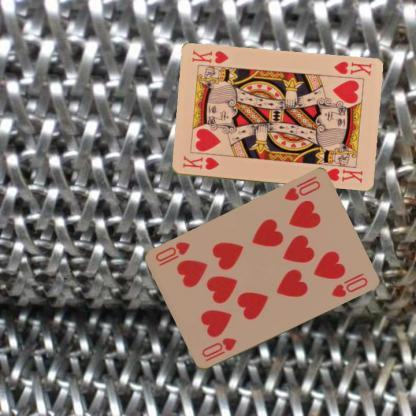10h: (198, 335, 238, 364), (280, 178, 322, 203)
Kh: (330, 59, 373, 78), (180, 153, 221, 172)
